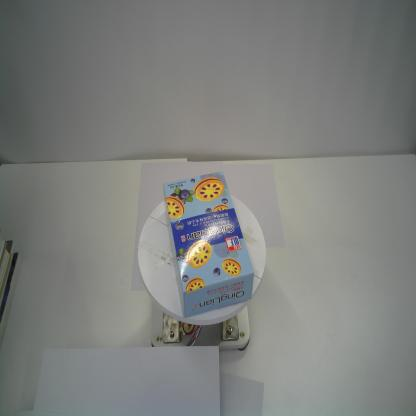Dessert: (162, 169, 254, 318)
